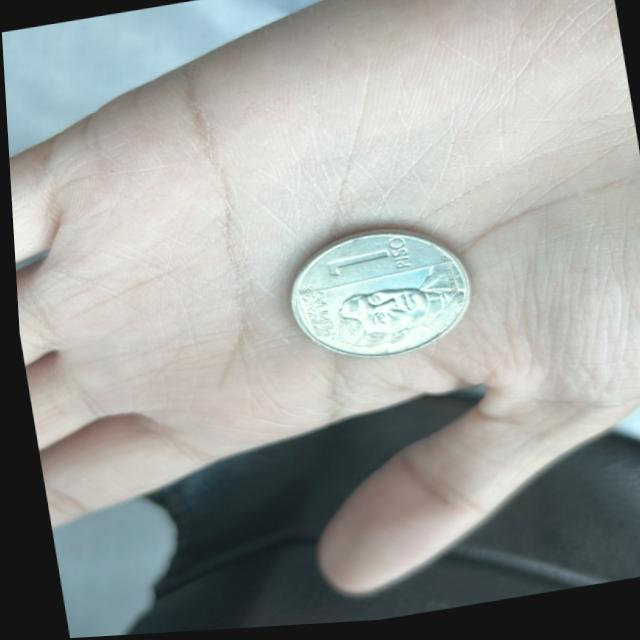1_New_Front: (319, 231, 418, 291)
